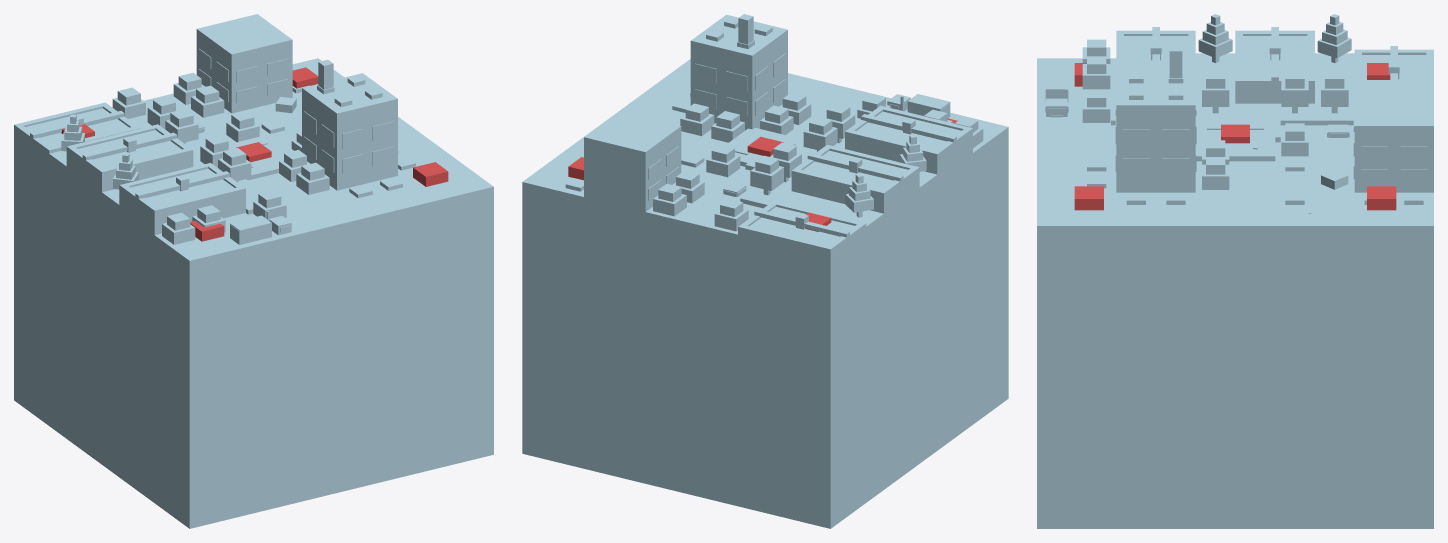
The model's file is block_12_sewersystem_100.glb.
3 renders of one model, left to right at view 1: azimuth 30°, elevation 25°; view 2: azimuth 150°, elevation 25°; view 3: azimuth 270°, elevation 25°, orthographic. The views are drawn at different scales.
Parts seen in each view (by area): view 1: Patch_LowerLeft_b11_SL, Factories_LowerLeft_b11_SL, Tanks_LowerLeft_SL, SL_Net_12, Roads_LowerLeft_b11_SL, Ground_LowerLeft_b11_SL, Asset_Truck.006_SL, Asset_Tree_Round.075_SL, Asset_Tree_Round.103_SL, Asset_Tree_Round.106_SL, Asset_Tree_Round.100_SL, Asset_Tree_Round.080_SL (+9 smaller); view 2: Patch_LowerLeft_b11_SL, Factories_LowerLeft_b11_SL, Tanks_LowerLeft_SL, Ground_LowerLeft_b11_SL, SL_Net_12, Asset_Truck.006_SL, Asset_Tree_Round.078_SL, Asset_Tree_Round.090_SL, Roads_LowerLeft_b11_SL, Asset_Tree_Round.081_SL, Asset_Tree_Round.073_SL, Asset_Tree_Round.092_SL (+9 smaller); view 3: Patch_LowerLeft_b11_SL, Factories_LowerLeft_b11_SL, Tanks_LowerLeft_SL, Ground_LowerLeft_b11_SL, SL_Net_12, Roads_LowerLeft_b11_SL, Asset_Truck.006_SL, Asset_Tree_Pine.001_SL, Asset_Tree_Pine.003_SL, Asset_Tree_Round.078_SL, Asset_Tree_Round.090_SL, Asset_Tree_Round.080_SL (+6 smaller).
Boxes of the visible parts, x1,y1,x2,y2 form: Patch_LowerLeft_b11_SL: [14, 58, 493, 528]; Factories_LowerLeft_b11_SL: [196, 14, 397, 190]; Tanks_LowerLeft_SL: [14, 102, 245, 254]; SL_Net_12: [61, 67, 448, 241]; Roads_LowerLeft_b11_SL: [172, 134, 493, 277]; Ground_LowerLeft_b11_SL: [49, 140, 293, 263]; Asset_Truck.006_SL: [230, 211, 291, 244]; Asset_Tree_Round.075_SL: [191, 85, 224, 117]; Asset_Tree_Round.103_SL: [296, 162, 329, 194]; Asset_Tree_Round.106_SL: [162, 212, 195, 244]; Asset_Tree_Round.100_SL: [218, 148, 251, 182]; Asset_Tree_Round.080_SL: [165, 109, 198, 143]; Patch_LowerLeft_b11_SL: [522, 59, 1008, 528]; Factories_LowerLeft_b11_SL: [584, 14, 787, 232]; Tanks_LowerLeft_SL: [738, 105, 972, 276]; Ground_LowerLeft_b11_SL: [553, 117, 937, 250]; SL_Net_12: [568, 118, 957, 231]; Asset_Truck.006_SL: [887, 94, 950, 117]; Asset_Tree_Round.078_SL: [750, 155, 783, 195]; Asset_Tree_Round.090_SL: [803, 116, 837, 151]; Roads_LowerLeft_b11_SL: [522, 135, 808, 242]; Asset_Tree_Round.081_SL: [706, 144, 740, 177]; Asset_Tree_Round.073_SL: [653, 183, 686, 216]; Asset_Tree_Round.092_SL: [680, 103, 714, 136]; Patch_LowerLeft_b11_SL: [1037, 58, 1433, 528]; Factories_LowerLeft_b11_SL: [1115, 46, 1433, 192]; Tanks_LowerLeft_SL: [1116, 27, 1433, 103]; Ground_LowerLeft_b11_SL: [1111, 53, 1354, 161]; SL_Net_12: [1074, 63, 1396, 210]; Roads_LowerLeft_b11_SL: [1037, 120, 1432, 263]; Asset_Truck.006_SL: [1045, 71, 1068, 117]; Asset_Tree_Pine.001_SL: [1198, 14, 1232, 63]; Asset_Tree_Pine.003_SL: [1317, 14, 1351, 62]; Asset_Tree_Round.078_SL: [1321, 71, 1348, 113]; Asset_Tree_Round.090_SL: [1202, 71, 1229, 113]; Asset_Tree_Round.080_SL: [1281, 71, 1308, 113].
Size of the model in its own units: 9.5 by 11.13 by 9.5.
